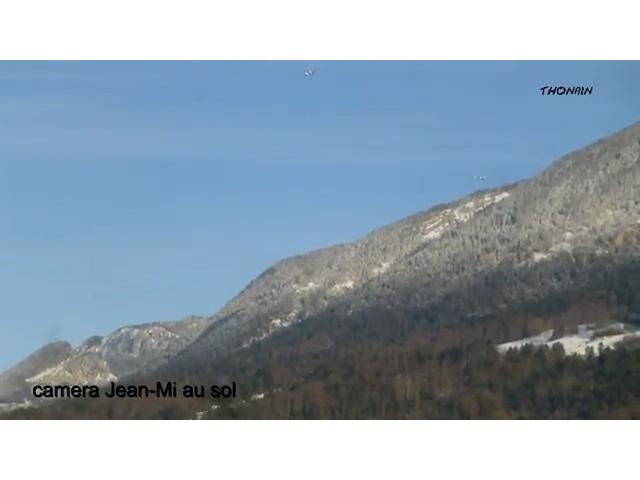Anti-Drone: (297, 66, 329, 82), (468, 166, 494, 184)
